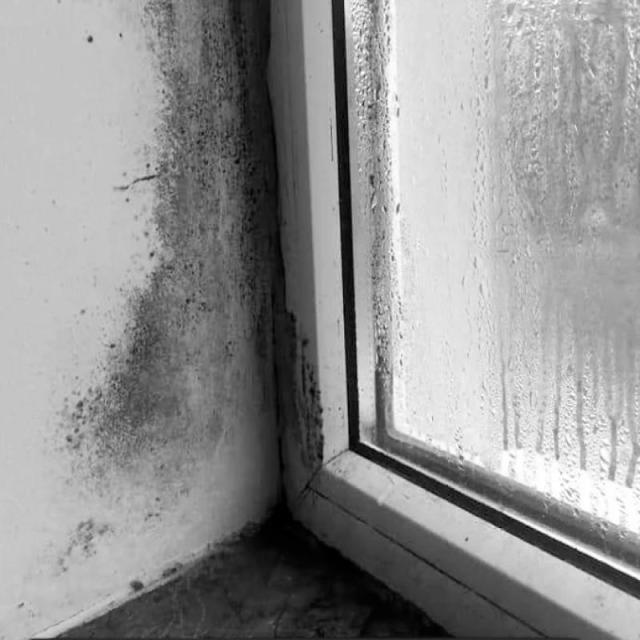stain marks: (42, 0, 324, 606)
